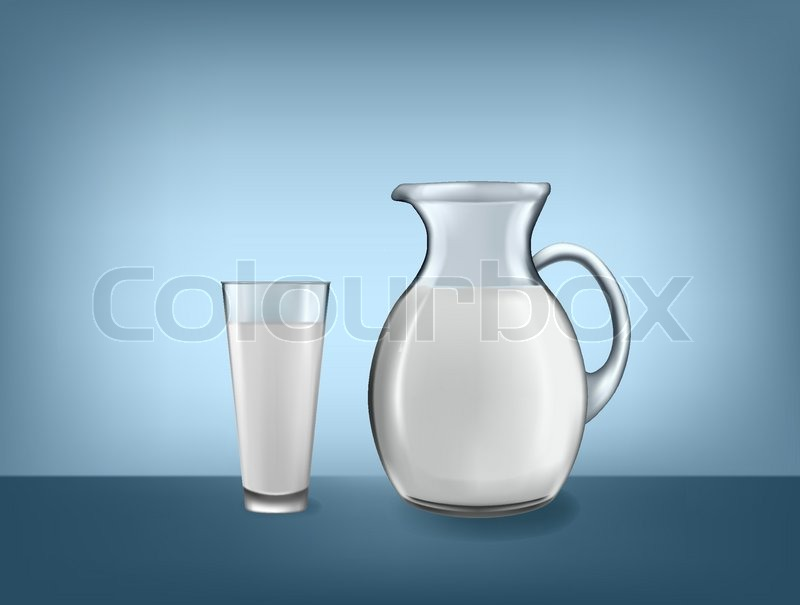glass of milk: (368, 276, 587, 511), (223, 283, 321, 508)
